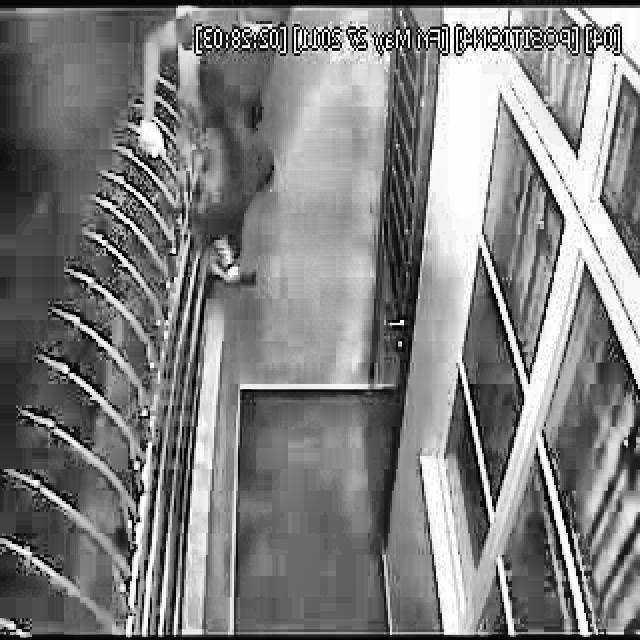burglary: (136, 5, 290, 292)
